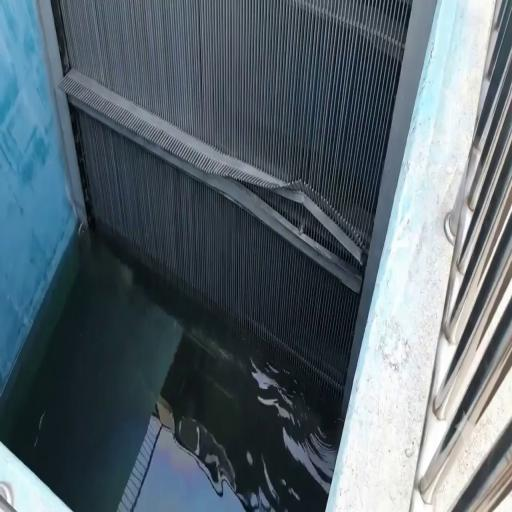rake_broken: (295, 170, 358, 259), (206, 158, 286, 199)
